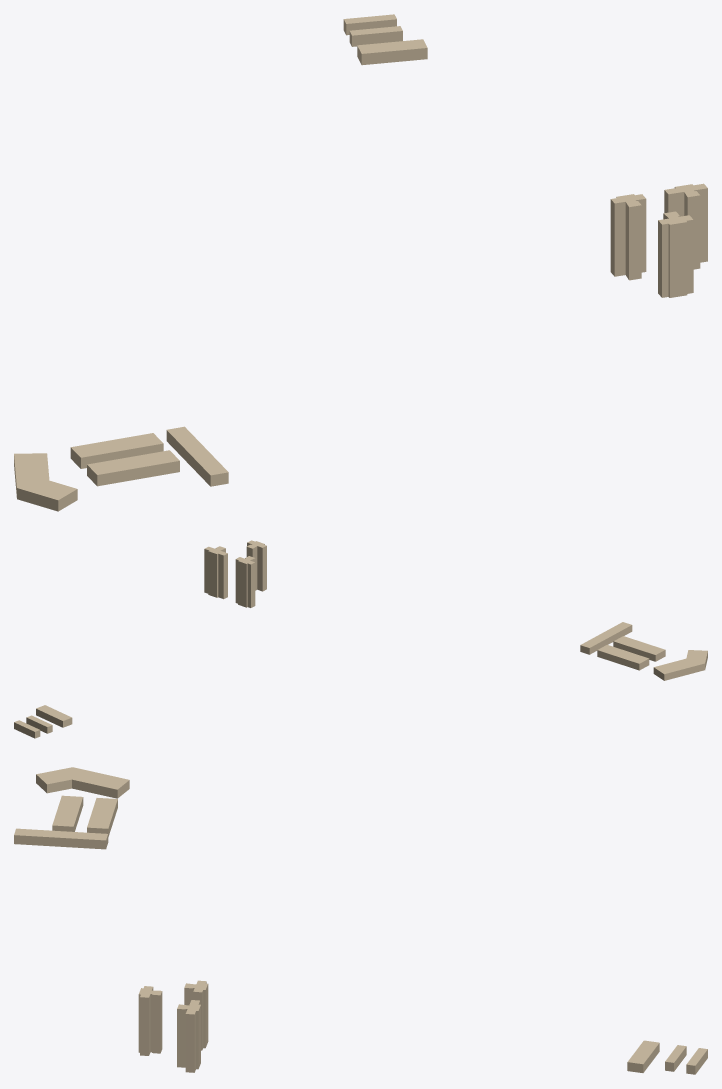
The model's file is -20_20-estimated-coarse.glb.
3 views of the same model, one above another, from view 1: azimuth 30°, elevation 25°; view 2: azimuth 150°, elevation 25°; view 3: azimuth 270°, elevation 25° (orthographic). The views are drawn at different scales.
Bounding box in the file's own units: 856 × 78 × 841.
